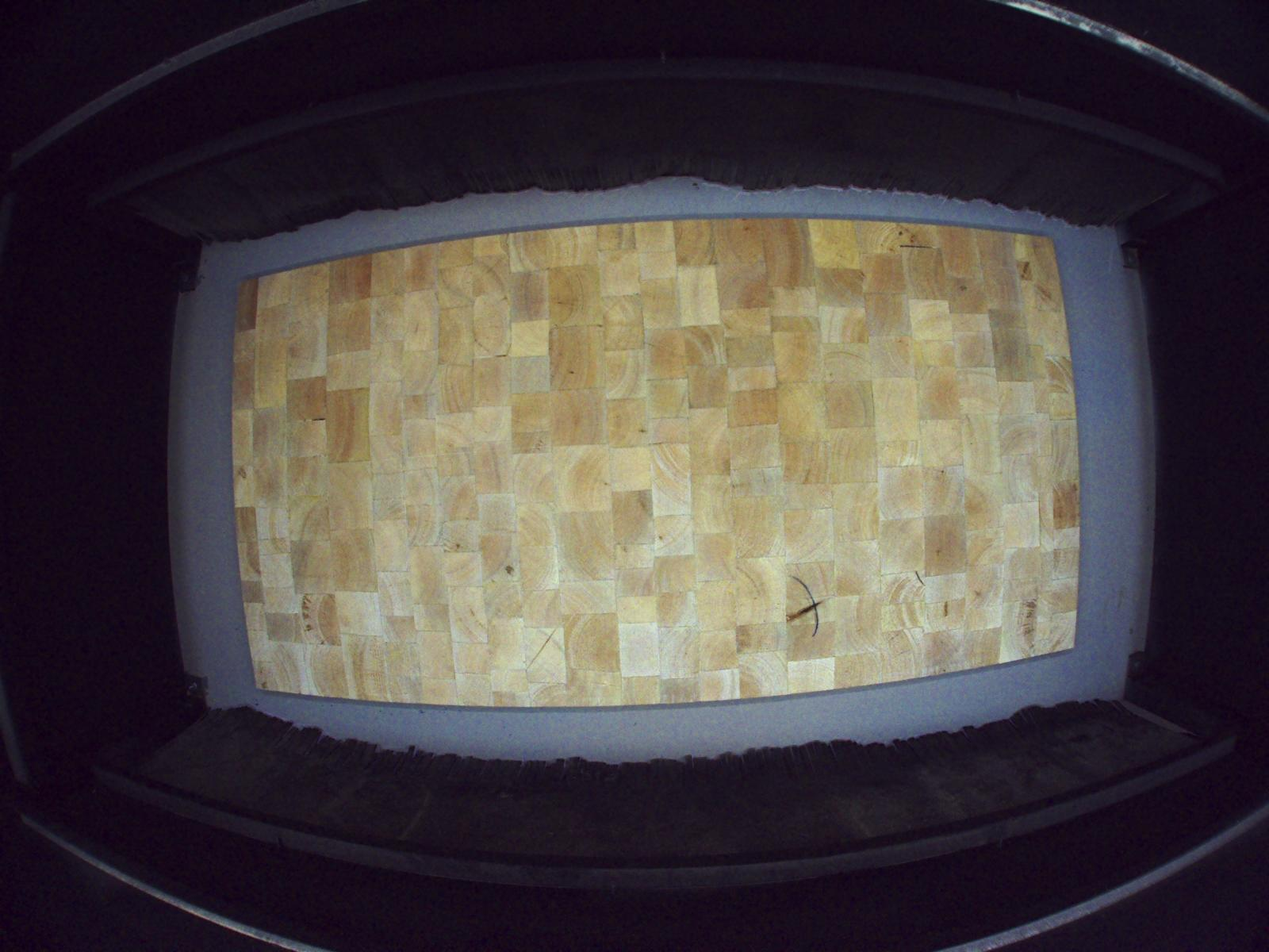nudillo: (785, 596, 834, 625)
